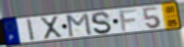5: (141, 5, 163, 30)
F: (118, 8, 139, 33)
I: (25, 18, 37, 42)
M: (66, 12, 93, 38)
S: (90, 11, 114, 35)
X: (39, 15, 65, 41)
